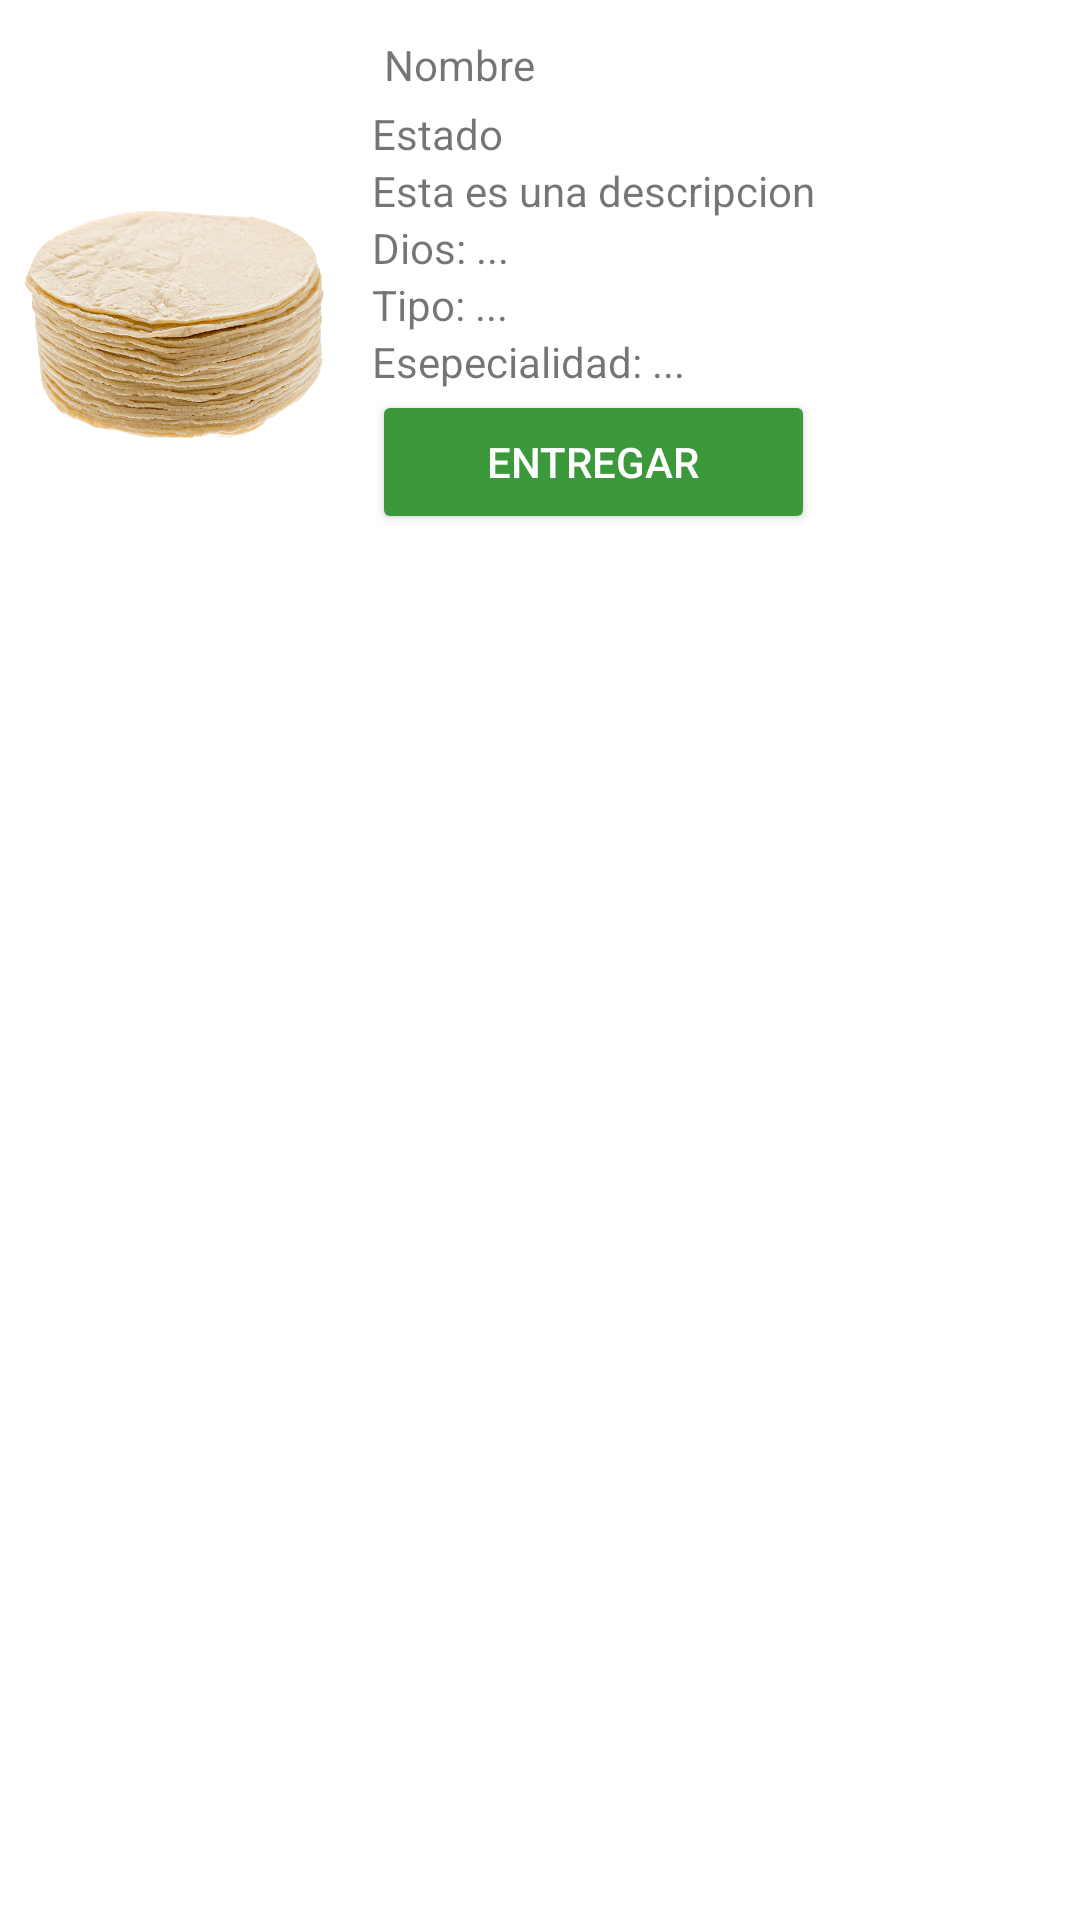

Named icons in this screenshot (1080w x 1920h) and their bounding boxes, box(x1, y1, x2, y2):
tortillas: box(25, 211, 324, 438)
